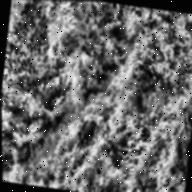boar: (73, 114, 95, 152)
